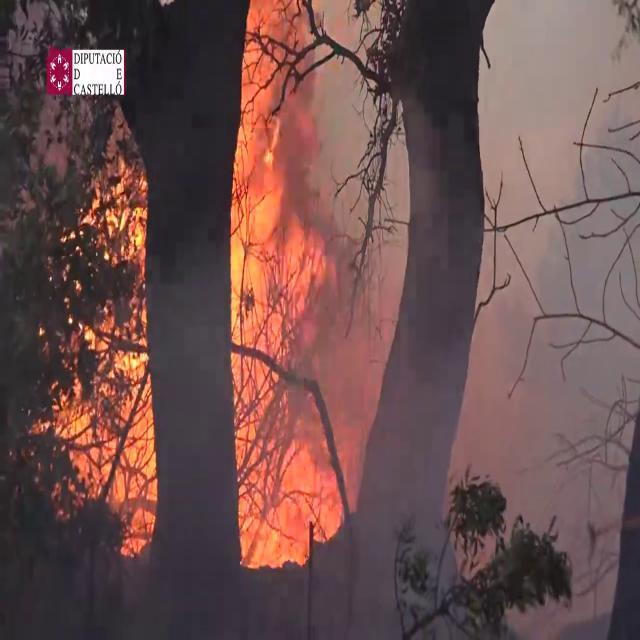Fire: (226, 25, 359, 568), (10, 134, 174, 544)
Smoke: (478, 0, 634, 567)
